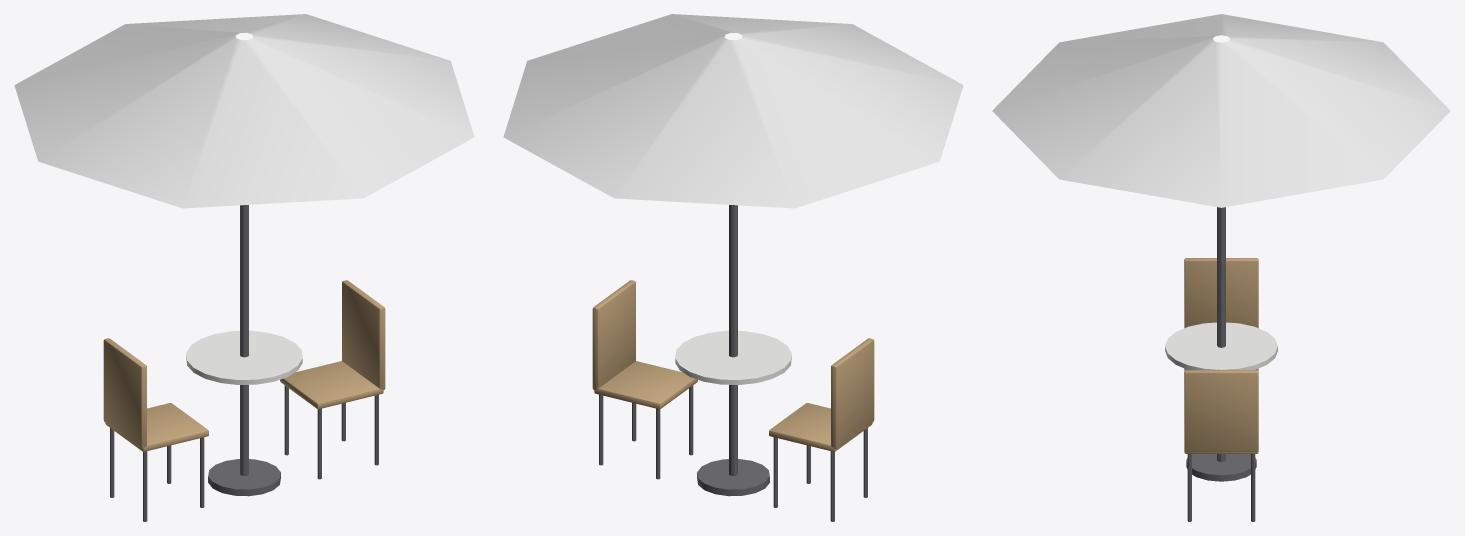
The model's file is terrasse.glb.
The picture shows the model from 3 angles, left to right: view 1: azimuth 30°, elevation 25°; view 2: azimuth 150°, elevation 25°; view 3: azimuth 270°, elevation 25°; orthographic projection. The views are drawn at different scales.
Parts seen in each view (by area): view 1: terrasse; view 2: terrasse; view 3: terrasse.
Boxes of the visible parts, x1,y1,x2,y2 form: terrasse: [14, 14, 474, 521]; terrasse: [503, 14, 963, 521]; terrasse: [992, 14, 1450, 521].
Size of the model in its own units: 2.6 by 2.67 by 2.6.
